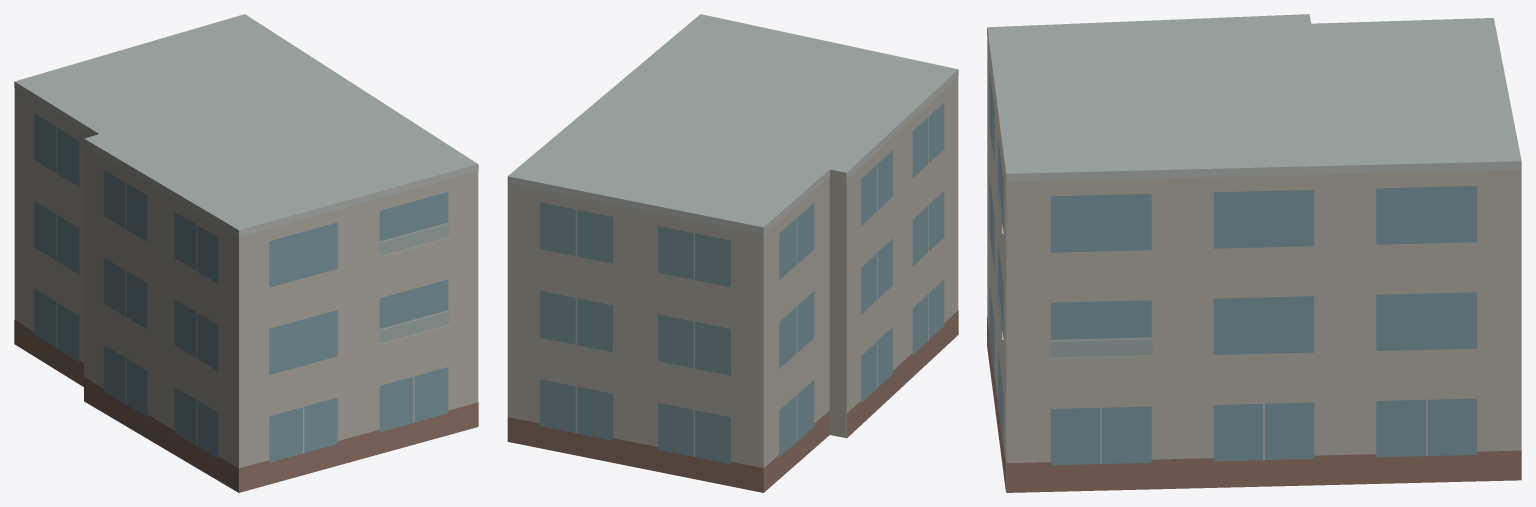
File: survey-upis-32732297.glb
The picture shows the model from 3 angles, left to right: view 1: azimuth 30°, elevation 25°; view 2: azimuth 150°, elevation 25°; view 3: azimuth 270°, elevation 25°; orthographic projection. The views are drawn at different scales.
Parts seen in each view (by area): view 1: survey-upis-32732297.tmp; view 2: survey-upis-32732297.tmp; view 3: survey-upis-32732297.tmp.
Part boxes in pixels (bbox=[...]): survey-upis-32732297.tmp: bbox=[14, 14, 478, 492]; survey-upis-32732297.tmp: bbox=[507, 14, 958, 492]; survey-upis-32732297.tmp: bbox=[987, 14, 1521, 492].
Bounding box in the file's own units: 9.84 × 9.15 × 13.9.
